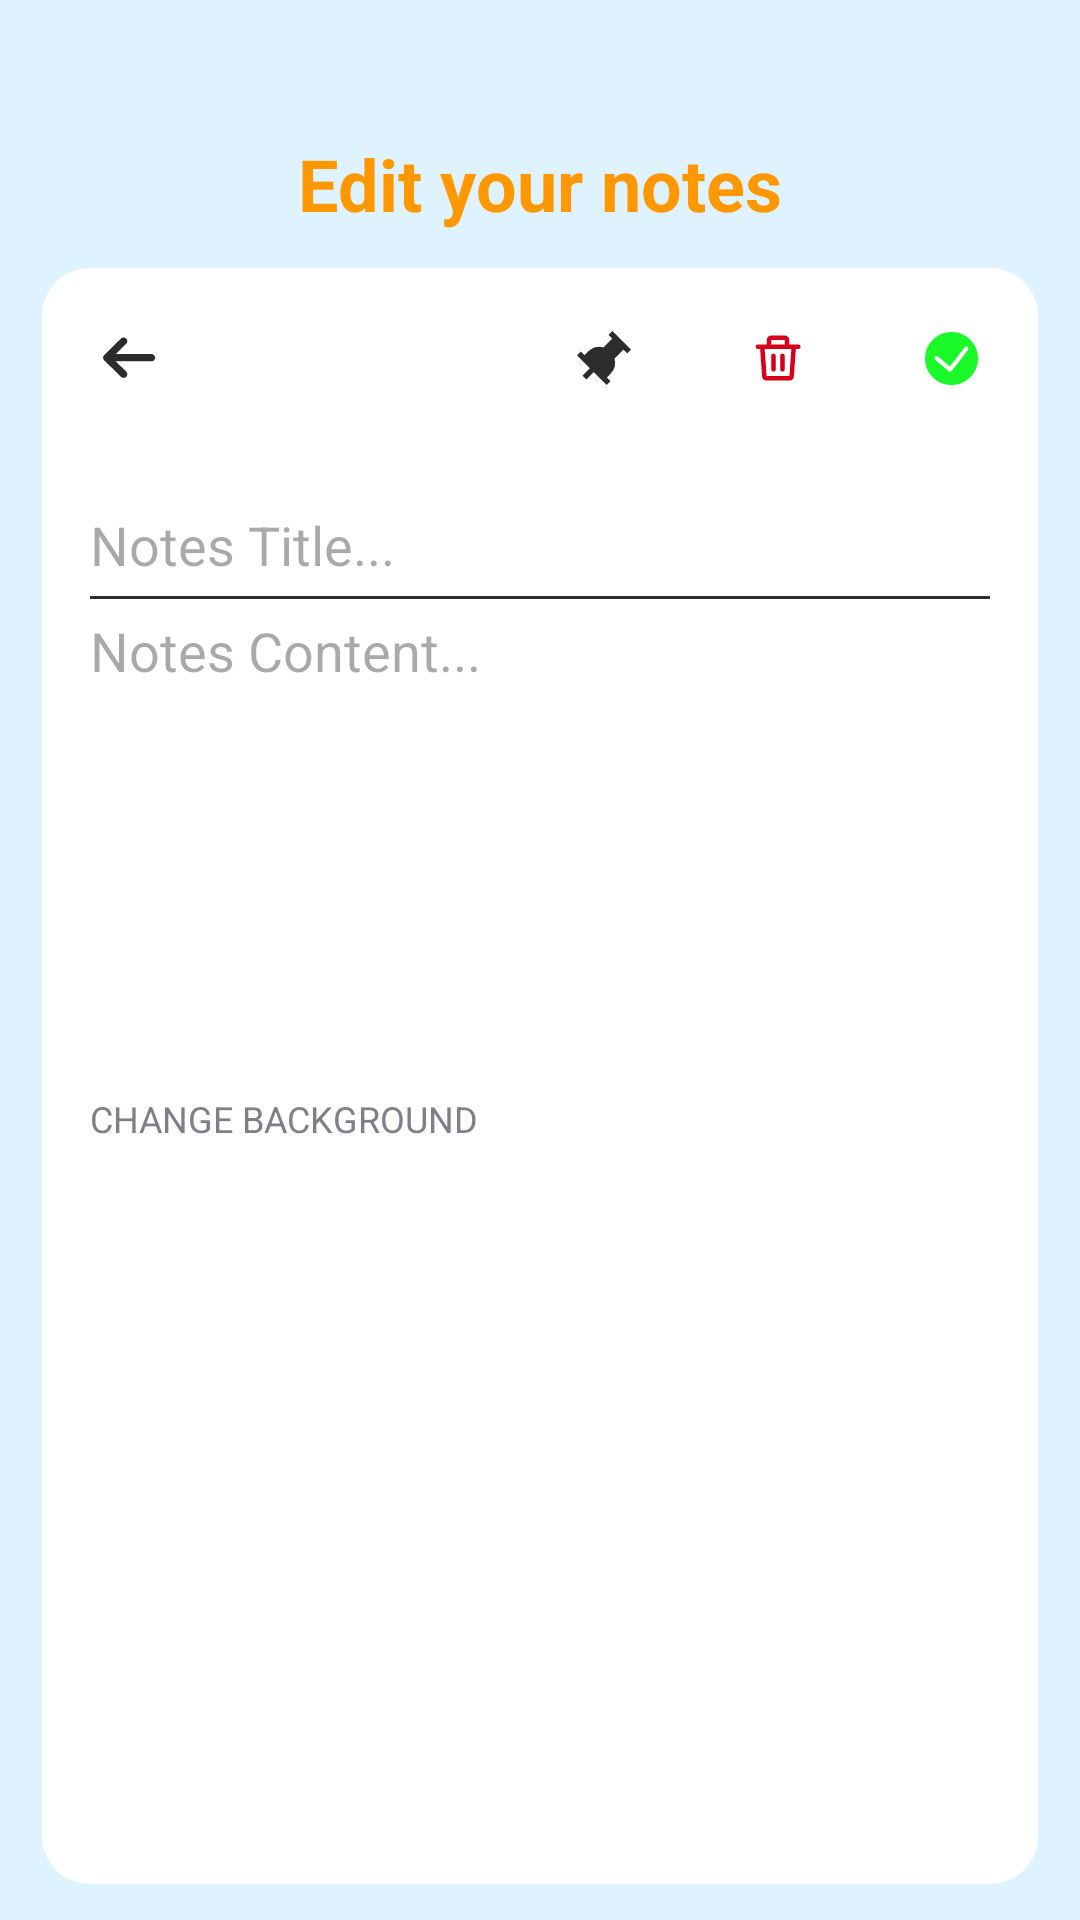

Icons on this 1080x1920 Android screen, each with its box as (x1, y1, x2, y2):
delete: (755, 335, 801, 381)
